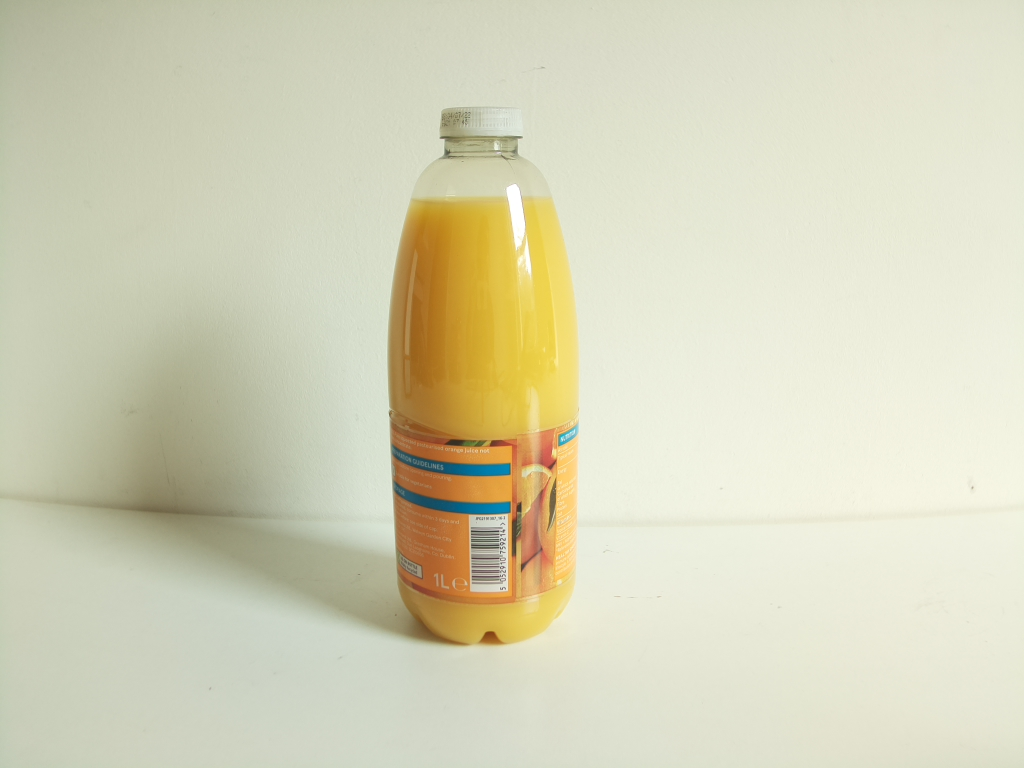juice: (382, 91, 587, 654)
